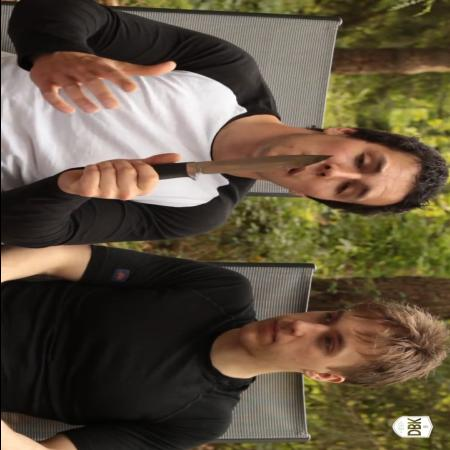long weapon: (90, 150, 348, 201)
